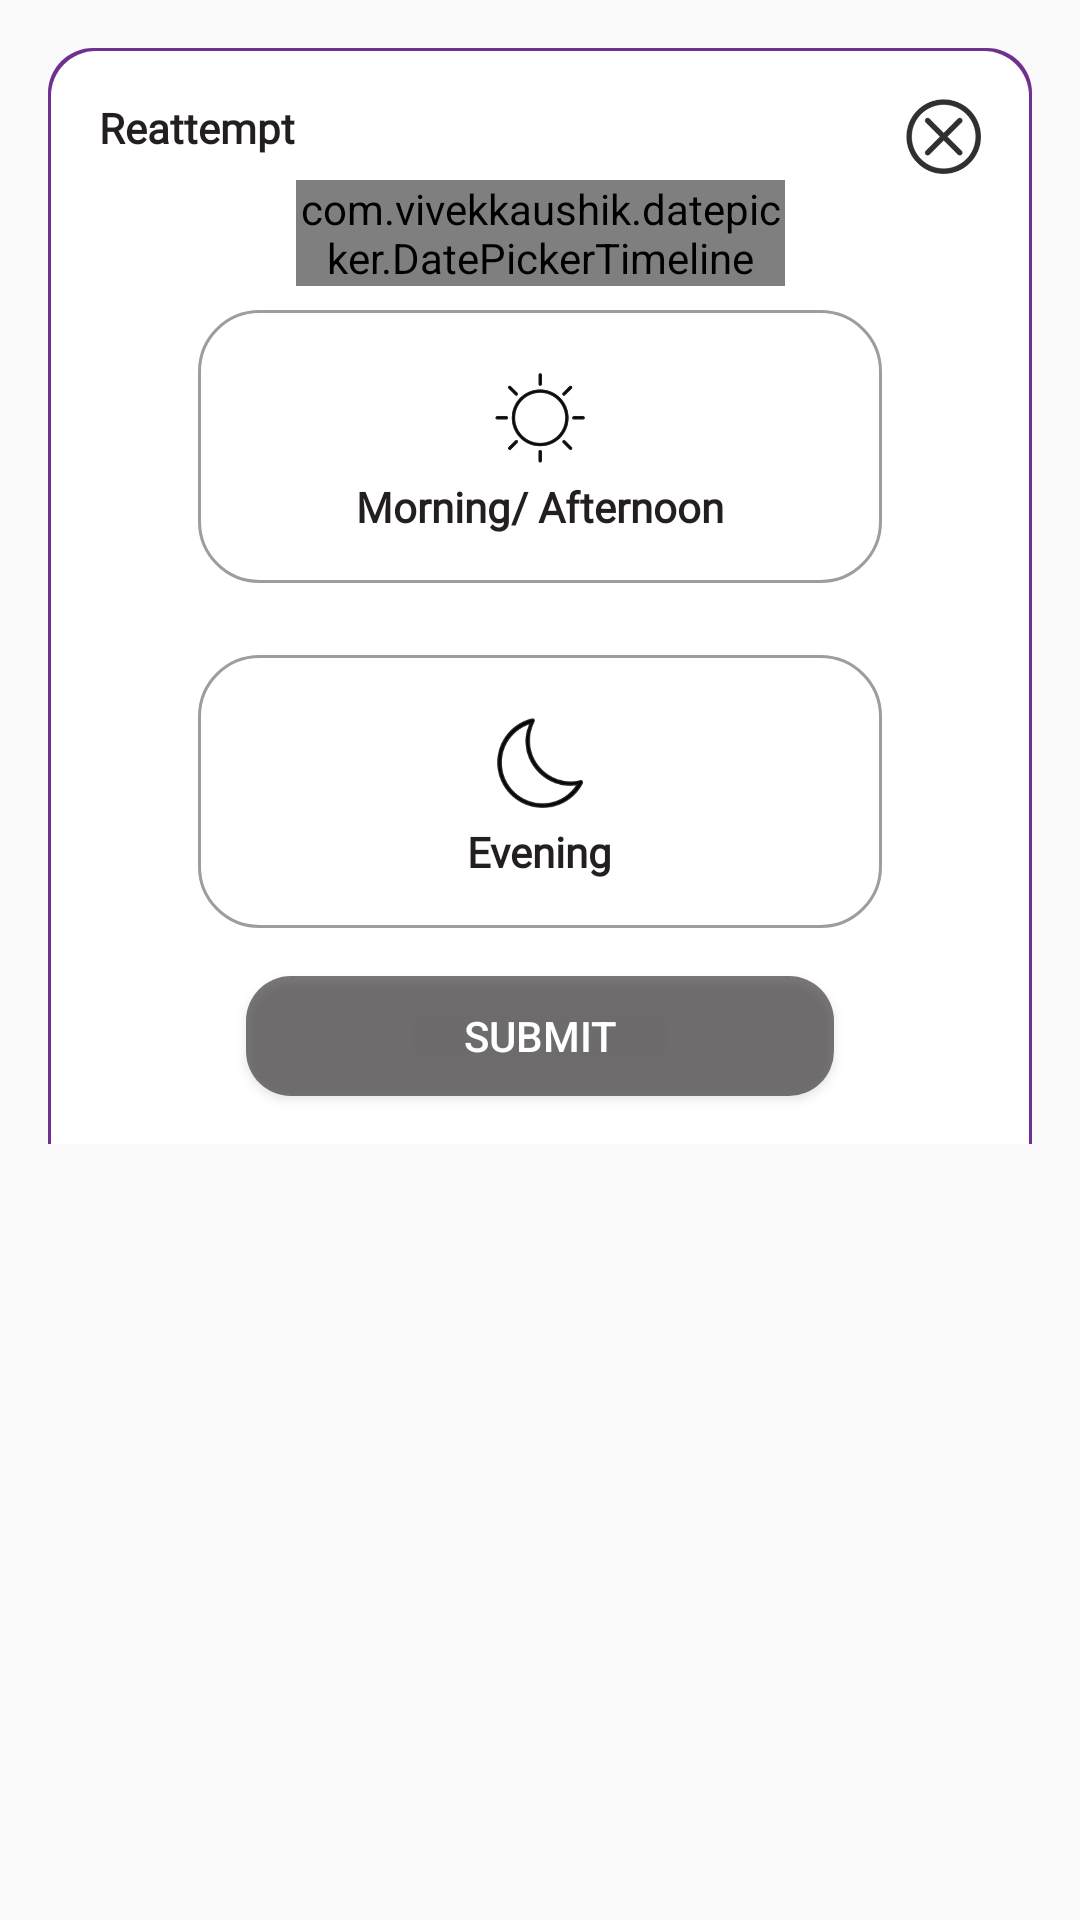

Screen size 1080×1920. Icon name, then its center in pixels as (x=x, y=y):
cross: (x=943, y=136)
day: (x=540, y=418)
night: (x=540, y=763)
